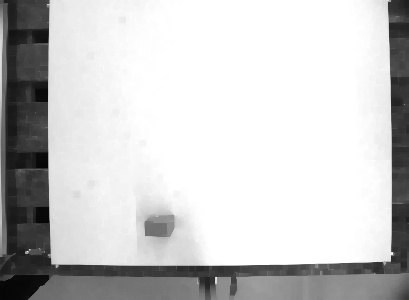b1: (143, 212, 177, 239)
